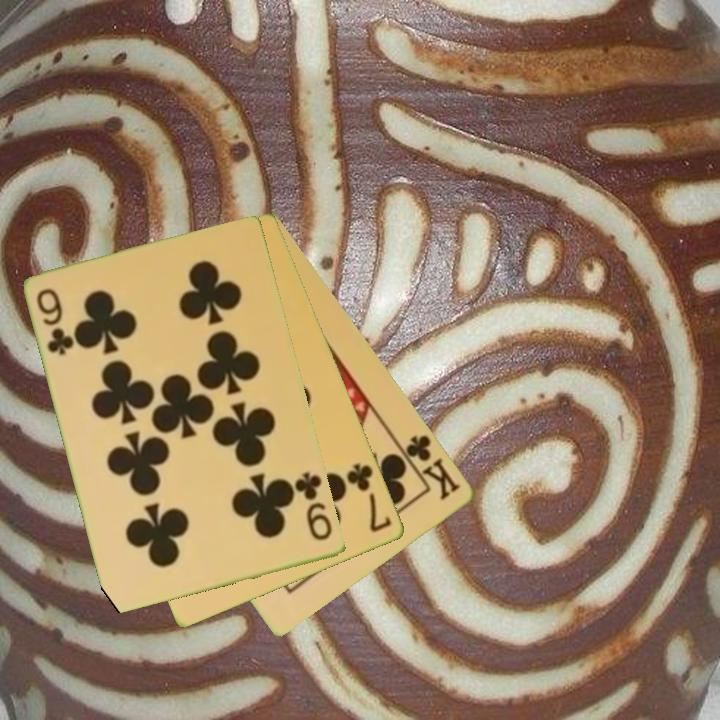7c: (343, 460, 395, 536)
9c: (291, 468, 336, 544), (33, 285, 77, 359)
Kc: (394, 431, 464, 504)
